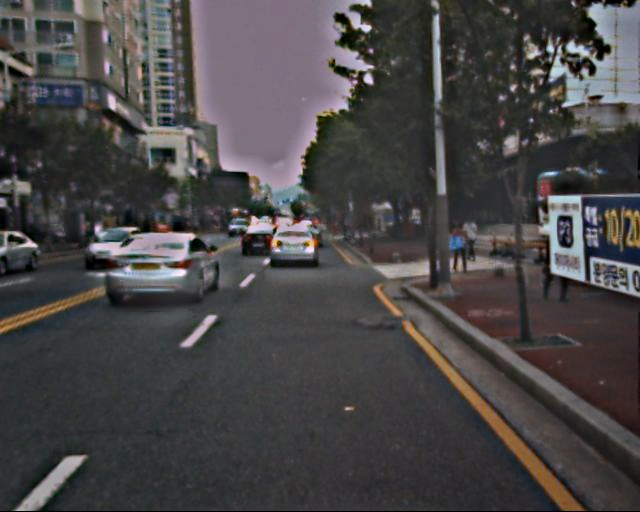person: (536, 221, 570, 305), (448, 222, 471, 277), (461, 213, 482, 264)
